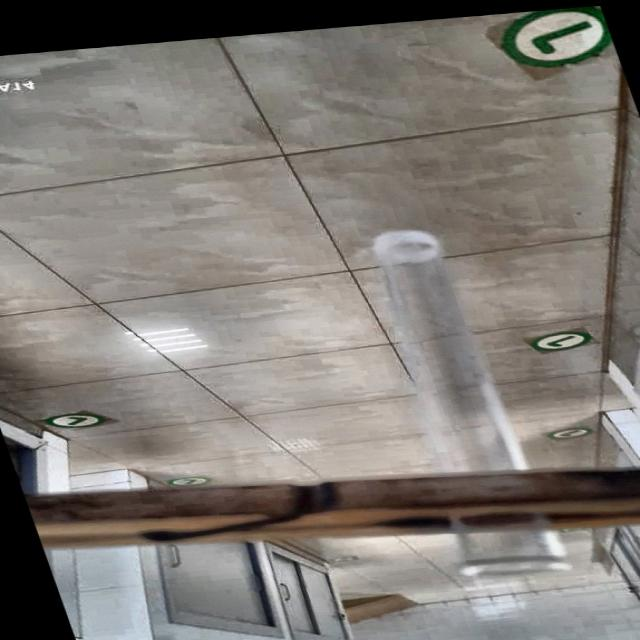Test Tube Holder: (59, 450, 640, 560)
